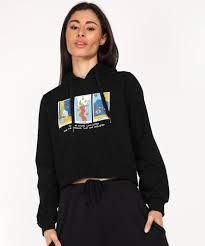Human: (35, 3, 165, 243)
